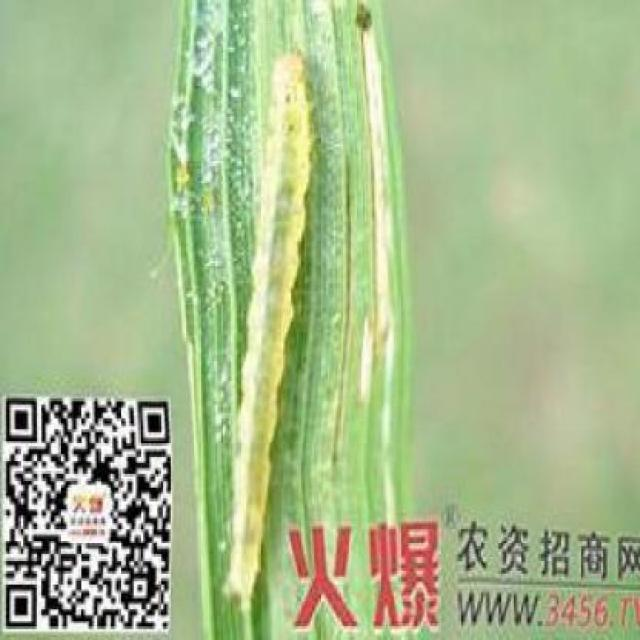leaf-folder: (226, 31, 325, 509)
